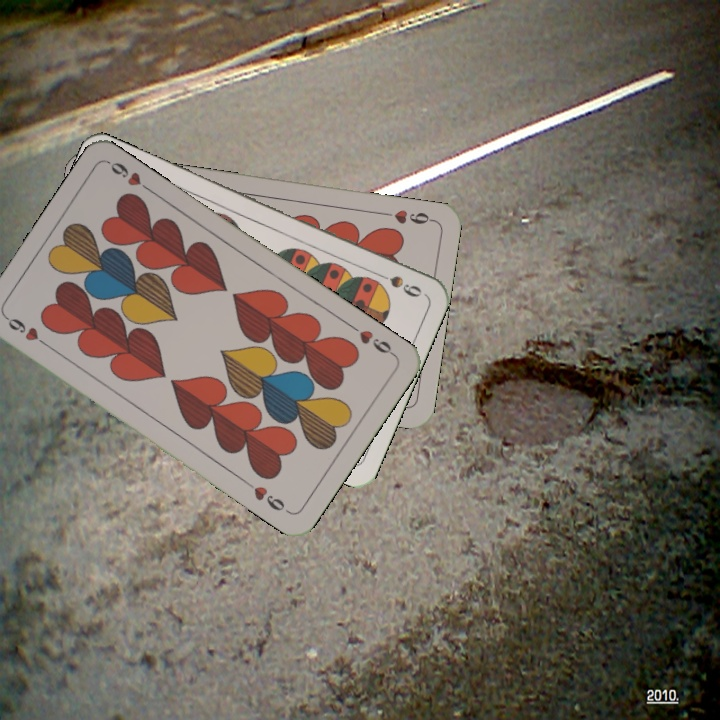H9: (346, 320, 398, 359), (1, 312, 53, 351), (377, 205, 436, 227)
S9: (369, 267, 425, 300)
